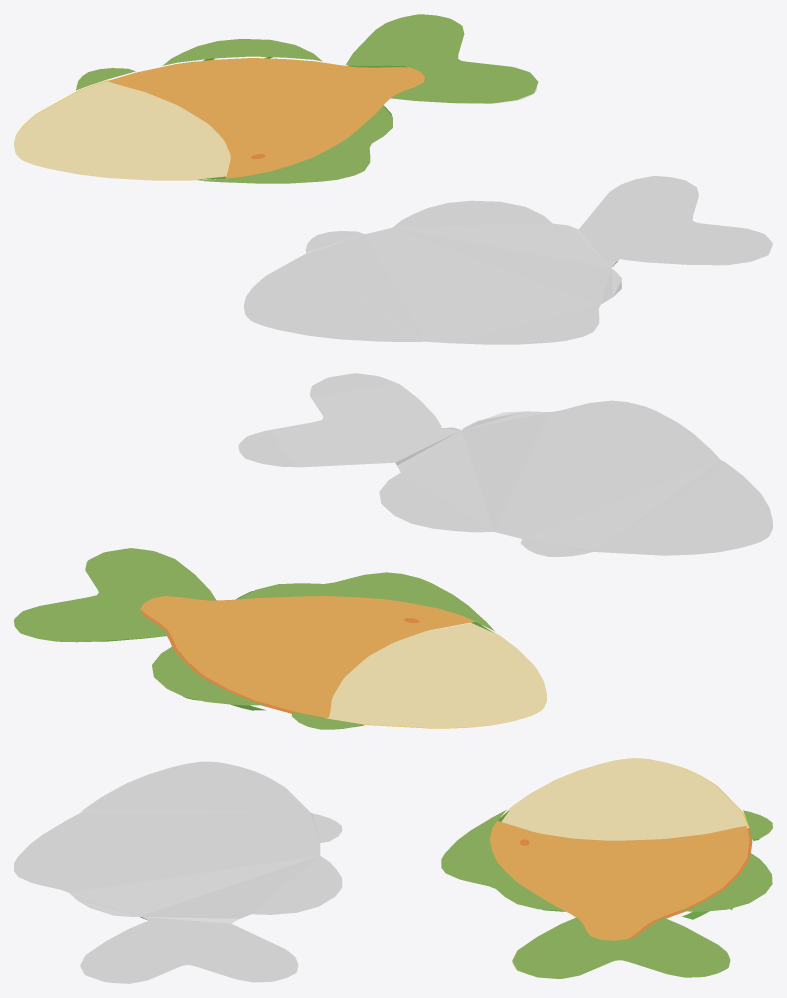
Rendered from fish.fbx.
3 renders of one model, top to bottom at view 1: azimuth 30°, elevation 25°; view 2: azimuth 150°, elevation 25°; view 3: azimuth 270°, elevation 25°, orthographic. The views are drawn at different scales.
Visible parts, largest first — view 1: background, 3, 2, 6, 10, 5, 4; view 2: background, 3, 2, 6, 10, 5, 4, 11; view 3: background, 3, 2, 6, 10, 5, 4, 11.
Part boxes in pixels (x1,y1,x2,y2): background: [244, 176, 772, 344]; 3: [107, 58, 424, 178]; 2: [14, 81, 230, 180]; 6: [346, 14, 538, 103]; 10: [199, 106, 392, 183]; 5: [162, 39, 322, 65]; 4: [76, 68, 135, 89]; background: [238, 373, 772, 556]; 3: [140, 596, 475, 717]; 2: [327, 623, 546, 728]; 6: [14, 548, 216, 642]; 10: [238, 572, 494, 631]; 5: [152, 646, 266, 705]; 4: [291, 711, 363, 729]; 11: [140, 610, 323, 717]; background: [14, 761, 342, 983]; 3: [489, 820, 749, 940]; 2: [501, 758, 747, 840]; 6: [512, 917, 730, 978]; 10: [441, 810, 564, 910]; 5: [682, 853, 772, 911]; 4: [743, 810, 772, 839]; 11: [629, 827, 752, 938].
Size of the model in its own units: 486 by 10.07 by 690.
